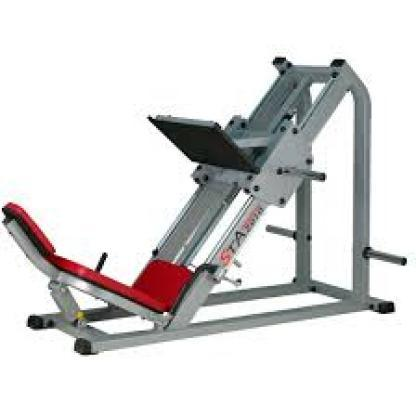leg press: (0, 33, 413, 365)
